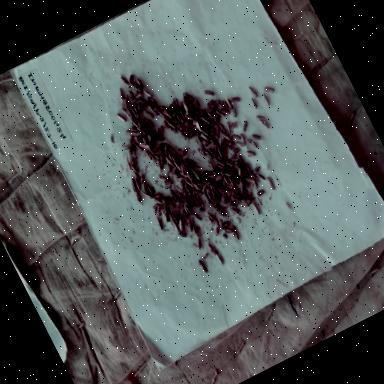pbw: (178, 97, 192, 114), (192, 234, 206, 251), (118, 96, 132, 112), (230, 204, 244, 220), (170, 96, 184, 112), (164, 116, 178, 132), (138, 138, 152, 154), (183, 215, 196, 232), (188, 219, 201, 236), (180, 199, 193, 216), (175, 217, 188, 234), (198, 258, 210, 276), (130, 102, 142, 120), (265, 174, 277, 192), (190, 166, 202, 184), (182, 180, 194, 198), (238, 118, 252, 133), (184, 201, 196, 218), (154, 214, 166, 231), (170, 218, 182, 235), (176, 213, 188, 230), (124, 126, 138, 140), (151, 145, 165, 159), (181, 192, 194, 207), (115, 110, 128, 125), (128, 177, 140, 193), (250, 170, 262, 186), (132, 190, 144, 206), (248, 96, 260, 112), (130, 107, 142, 123), (194, 192, 206, 208), (214, 106, 226, 122), (106, 129, 118, 145), (146, 102, 158, 118), (216, 216, 228, 232), (174, 198, 187, 212), (206, 98, 219, 112), (169, 106, 182, 120), (244, 174, 257, 188), (243, 195, 257, 208), (212, 224, 225, 238), (263, 82, 276, 96), (144, 132, 156, 147), (236, 179, 248, 194), (200, 113, 212, 128), (216, 121, 228, 136), (156, 154, 168, 169), (228, 103, 240, 118), (162, 107, 174, 122), (192, 209, 204, 224), (247, 136, 259, 151), (212, 121, 224, 136), (194, 136, 206, 151), (164, 158, 175, 174), (163, 152, 174, 168), (193, 126, 204, 142), (226, 174, 237, 190), (145, 183, 156, 199), (184, 176, 196, 190), (216, 206, 228, 220), (129, 162, 141, 176), (186, 154, 198, 168), (198, 130, 210, 144), (260, 118, 272, 132), (156, 122, 168, 136), (142, 188, 154, 202), (238, 195, 252, 207), (228, 168, 240, 182), (136, 172, 148, 186), (244, 146, 256, 160), (254, 110, 266, 124), (215, 156, 227, 170), (178, 146, 192, 158), (177, 228, 189, 242), (124, 150, 136, 164), (202, 191, 213, 206), (133, 177, 144, 192), (231, 226, 242, 241), (203, 106, 214, 121), (177, 179, 188, 194), (116, 86, 127, 101), (208, 187, 219, 202), (261, 92, 271, 108), (224, 120, 234, 136), (204, 146, 214, 162), (154, 206, 166, 219), (192, 225, 204, 238), (162, 212, 174, 225), (144, 109, 156, 122), (204, 86, 216, 99), (206, 241, 217, 255), (205, 172, 216, 186), (191, 180, 202, 194), (218, 176, 229, 190), (214, 144, 225, 158), (206, 145, 217, 159), (243, 160, 254, 174), (210, 214, 221, 228), (204, 187, 215, 201), (238, 132, 249, 146), (144, 150, 155, 164), (184, 157, 195, 171), (248, 85, 259, 99), (169, 100, 180, 114), (252, 201, 262, 216), (159, 206, 169, 221), (223, 95, 233, 110), (214, 251, 224, 266), (168, 166, 180, 178), (212, 172, 224, 184), (156, 172, 168, 184), (126, 143, 138, 155), (224, 226, 236, 238), (126, 134, 138, 146), (222, 168, 234, 180), (220, 106, 232, 118), (146, 94, 158, 106), (252, 162, 264, 174), (230, 132, 242, 144), (220, 194, 232, 206), (228, 198, 240, 210), (152, 190, 164, 202), (192, 100, 204, 112), (190, 114, 202, 126), (160, 138, 172, 150), (214, 207, 225, 220), (196, 146, 207, 159), (255, 170, 266, 183), (160, 144, 171, 157), (238, 167, 249, 180), (119, 74, 130, 87), (221, 149, 232, 162), (170, 145, 180, 159), (169, 190, 179, 204), (222, 130, 232, 144), (201, 176, 211, 190), (146, 148, 156, 162), (206, 178, 216, 192), (124, 158, 134, 172), (206, 158, 216, 172), (140, 180, 150, 194), (181, 89, 192, 101), (225, 158, 236, 170), (230, 95, 242, 106), (210, 198, 222, 209), (251, 131, 262, 143), (218, 100, 229, 112), (168, 116, 180, 127), (127, 74, 138, 86), (228, 187, 239, 199), (155, 132, 166, 144), (230, 151, 242, 162), (232, 154, 243, 166), (142, 115, 153, 127), (216, 184, 226, 197), (210, 109, 220, 122), (154, 106, 164, 119), (126, 88, 136, 101), (121, 107, 131, 120), (216, 137, 226, 150), (138, 125, 148, 138), (174, 182, 184, 195), (143, 87, 153, 100), (181, 162, 190, 176), (174, 112, 183, 126), (250, 176, 259, 190), (137, 95, 148, 106), (212, 96, 223, 107), (129, 155, 140, 166), (158, 104, 169, 115), (200, 126, 210, 138), (130, 118, 140, 130), (196, 106, 206, 118), (140, 134, 150, 146), (178, 162, 188, 174), (122, 94, 132, 106), (236, 138, 246, 150), (220, 138, 230, 150), (194, 120, 204, 132), (204, 112, 213, 125), (174, 170, 184, 181), (196, 180, 207, 190), (222, 218, 232, 229), (233, 192, 244, 202), (190, 95, 200, 106), (256, 188, 267, 198), (188, 195, 198, 206), (130, 124, 140, 135), (242, 181, 252, 192), (229, 120, 240, 130), (139, 103, 150, 113), (203, 168, 214, 178), (201, 251, 212, 261), (173, 160, 182, 172), (284, 200, 292, 213), (214, 187, 222, 200), (192, 200, 202, 210), (164, 178, 174, 188), (150, 100, 160, 110), (150, 206, 160, 216), (152, 128, 162, 138), (184, 113, 194, 123), (206, 128, 216, 138), (152, 158, 162, 168), (189, 189, 199, 199), (181, 118, 191, 128), (206, 210, 214, 222), (142, 124, 152, 133), (147, 121, 157, 130), (213, 116, 223, 125), (134, 92, 144, 101), (206, 141, 216, 150), (182, 127, 192, 136), (184, 95, 194, 104), (226, 182, 235, 192), (232, 146, 242, 155), (151, 202, 162, 210), (236, 166, 244, 177), (170, 125, 178, 136), (207, 214, 214, 226), (198, 206, 207, 215), (227, 143, 236, 152), (216, 164, 225, 172), (186, 101, 194, 109)
